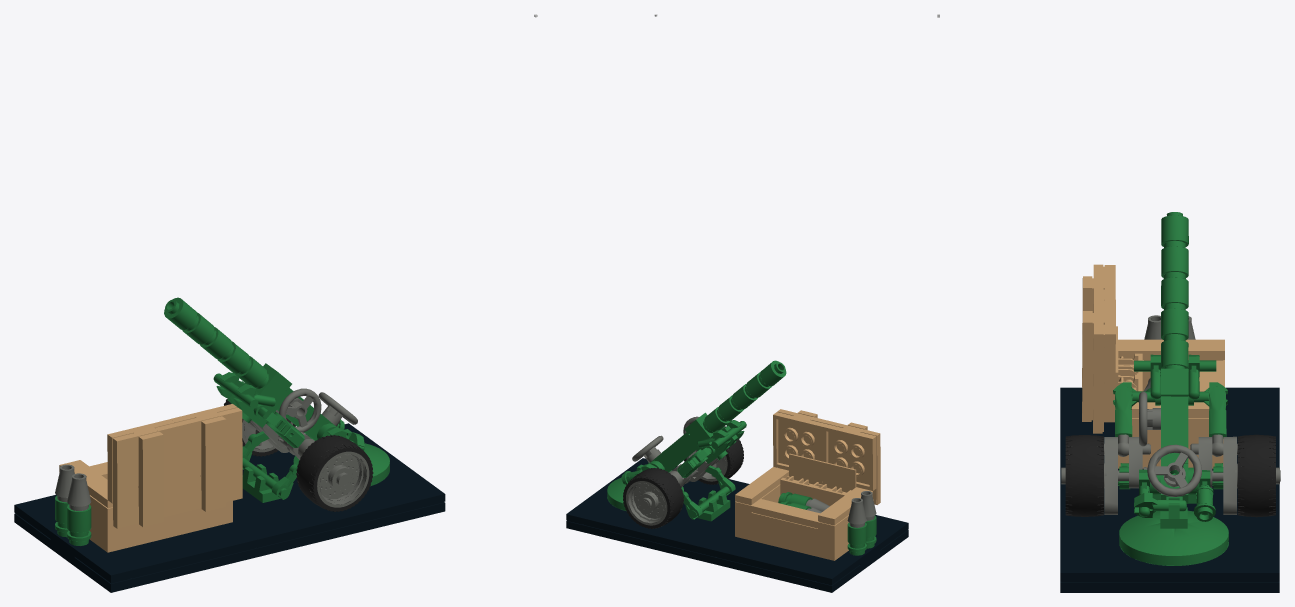
3 renders of one model, left to right at view 1: azimuth 30°, elevation 25°; view 2: azimuth 150°, elevation 25°; view 3: azimuth 270°, elevation 25°, orthographic. The views are drawn at different scales.
Visible parts, largest first — view 1: 迫击炮（升级款）; view 2: 迫击炮（升级款）; view 3: 迫击炮（升级款）.
Boxes of the visible parts, x1=… form: 迫击炮（升级款）: x1=14, y1=297, x2=445, y2=592; 迫击炮（升级款）: x1=566, y1=360, x2=908, y2=592; 迫击炮（升级款）: x1=1060, y1=212, x2=1280, y2=592.
Bounding box in the file's own units: 357 × 482 × 251.
